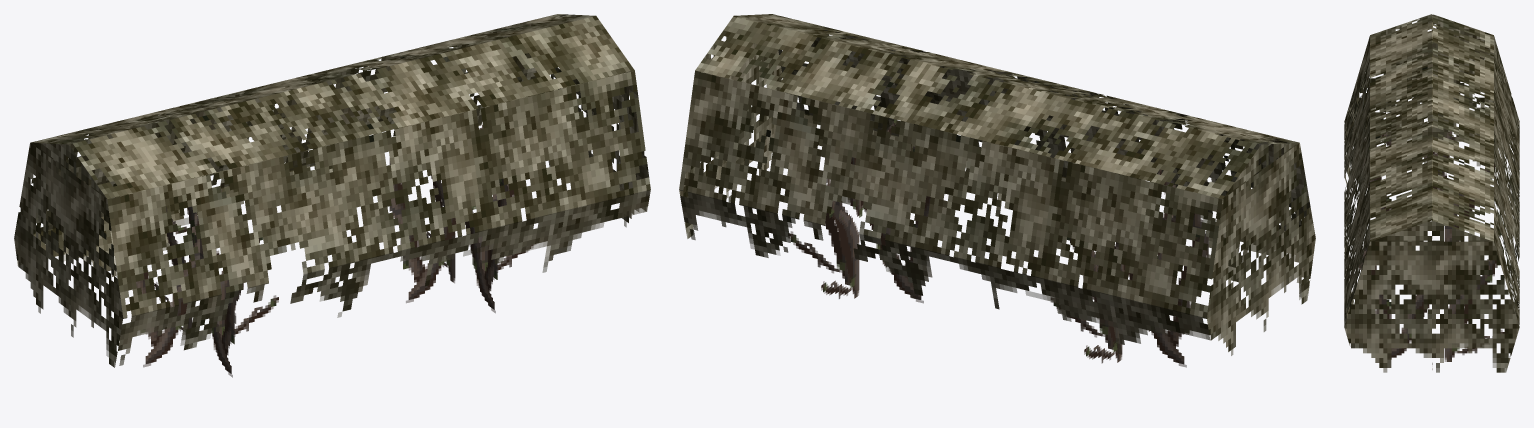
The model's file is bush_long_roots_dead..glb.
3 renders of one model, left to right at view 1: azimuth 30°, elevation 25°; view 2: azimuth 150°, elevation 25°; view 3: azimuth 270°, elevation 25°, orthographic. The views are drawn at different scales.
Parts seen in each view (by area): view 1: bush_long_roots_dead.; view 2: bush_long_roots_dead.; view 3: bush_long_roots_dead..
Boxes of the visible parts, box(x1,y1,x2,y2) form: bush_long_roots_dead.: box(14, 14, 650, 377); bush_long_roots_dead.: box(679, 14, 1315, 367); bush_long_roots_dead.: box(1344, 14, 1519, 372).
Size of the model in its own units: 2.01 by 0.8765 by 0.7191.
Materials: 2 (2 with a texture image).
